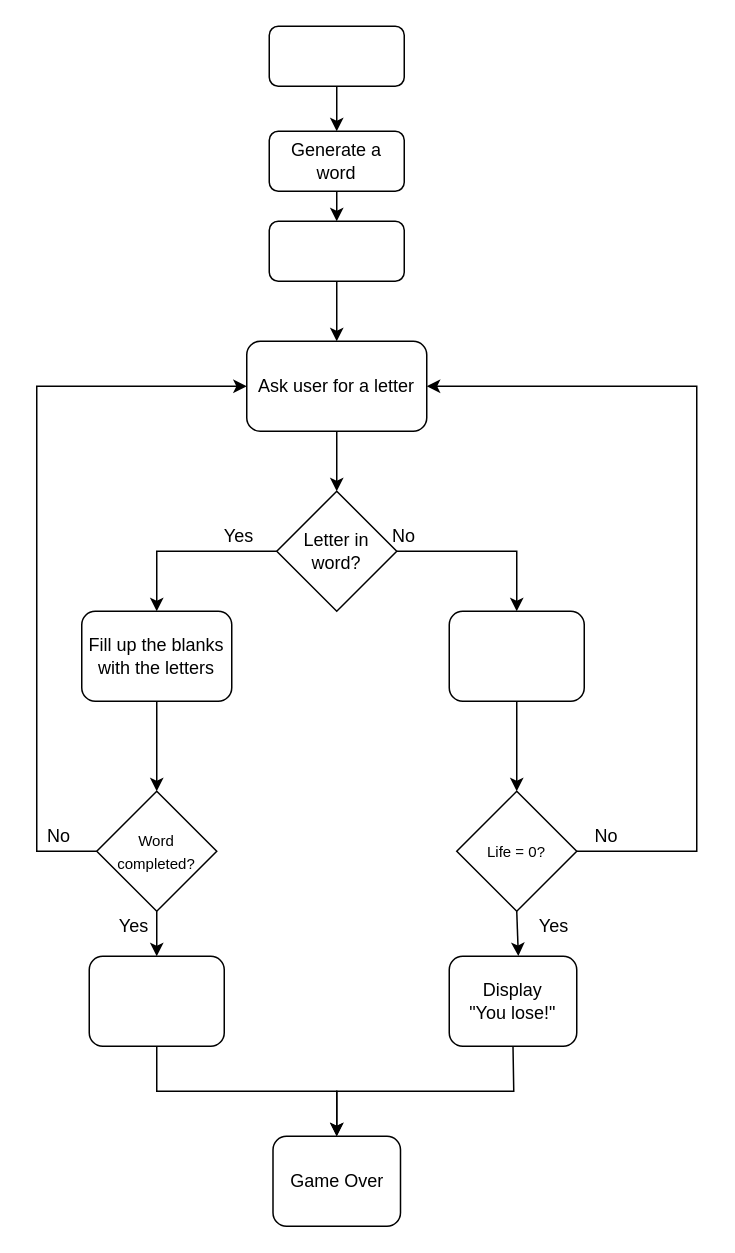
The diagram is 735 pixels wide and 1253 high, and some of its shapes have lost their labels. The shapes that lost their labels are listed below. From the top down, each one's centre as x and y in pixels, then its label:
[336,55]: Start
[336,250]: Create blanks for the word
[516,655]: Decrease life
[156,1000]: Display "You win!"
